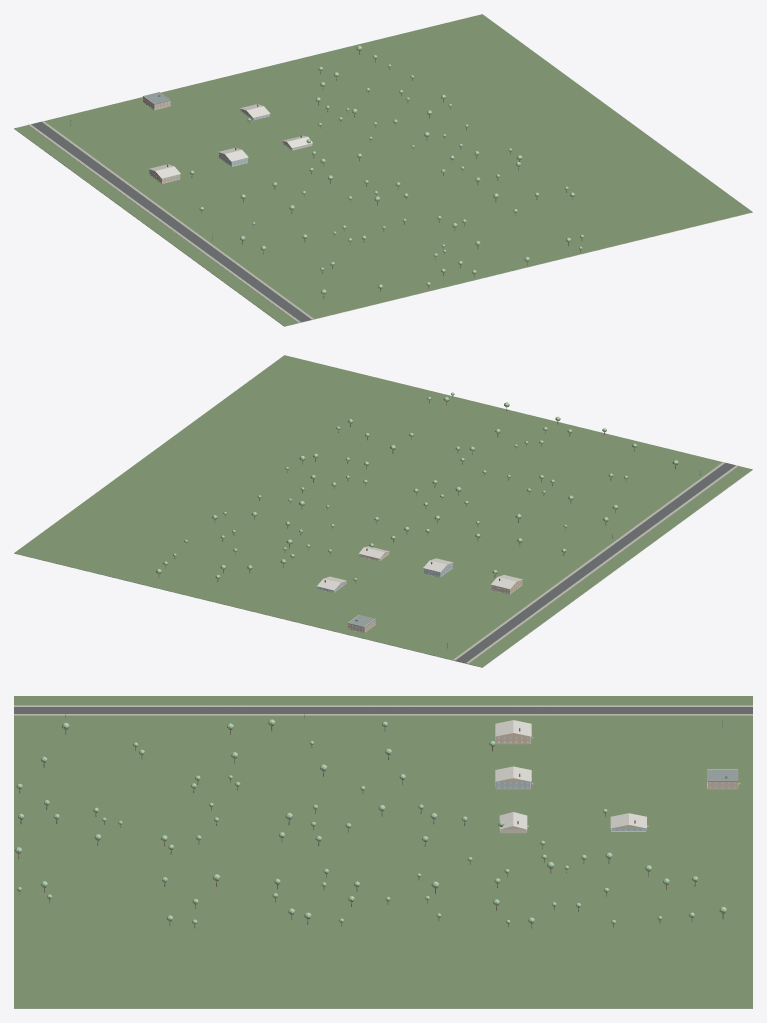
Rendered from chunk_2_6_high.glb.
The picture shows the model from 3 angles, top to bottom: view 1: azimuth 30°, elevation 25°; view 2: azimuth 150°, elevation 25°; view 3: azimuth 270°, elevation 25°; orthographic projection. The views are drawn at different scales.
Parts seen in each view (by area): view 1: city_forest_floor, city_world_asphalt, city_world_sidewalk, city_foliage, city_roof_tile, city_grass, city_curb; view 2: city_forest_floor, city_world_asphalt, city_world_sidewalk, city_foliage, city_roof_tile, city_grass, city_foliage_dark, city_curb; view 3: city_forest_floor, city_world_asphalt, city_world_sidewalk, city_foliage, city_roof_tile, city_foliage_dark, city_wall_sand, city_curb, city_grass, city_bark.
Boxes of the visible parts, x1,y1,x2,y2 form: city_forest_floor: (14, 14, 752, 326); city_world_asphalt: (31, 122, 311, 322); city_world_sidewalk: (28, 121, 313, 322); city_foliage: (190, 45, 583, 294); city_roof_tile: (149, 104, 312, 178); city_grass: (14, 129, 752, 326); city_curb: (31, 121, 311, 321); city_forest_floor: (14, 355, 752, 667); city_world_asphalt: (455, 463, 735, 663); city_world_sidewalk: (324, 462, 738, 663); city_foliage: (156, 392, 677, 581); city_roof_tile: (317, 546, 522, 590); city_grass: (14, 470, 752, 667); city_foliage_dark: (156, 393, 678, 580); city_curb: (455, 462, 735, 662); city_forest_floor: (14, 696, 752, 1008); city_world_asphalt: (14, 707, 752, 713); city_world_sidewalk: (14, 705, 752, 827); city_foliage: (15, 719, 726, 924); city_roof_tile: (495, 720, 646, 829); city_foliage_dark: (17, 722, 725, 924); city_wall_sand: (496, 733, 737, 829); city_curb: (14, 705, 752, 715); city_grass: (14, 1008, 752, 1008); city_bark: (18, 726, 723, 928).
Size of the model in its own units: 512 by 10.47 by 512.
